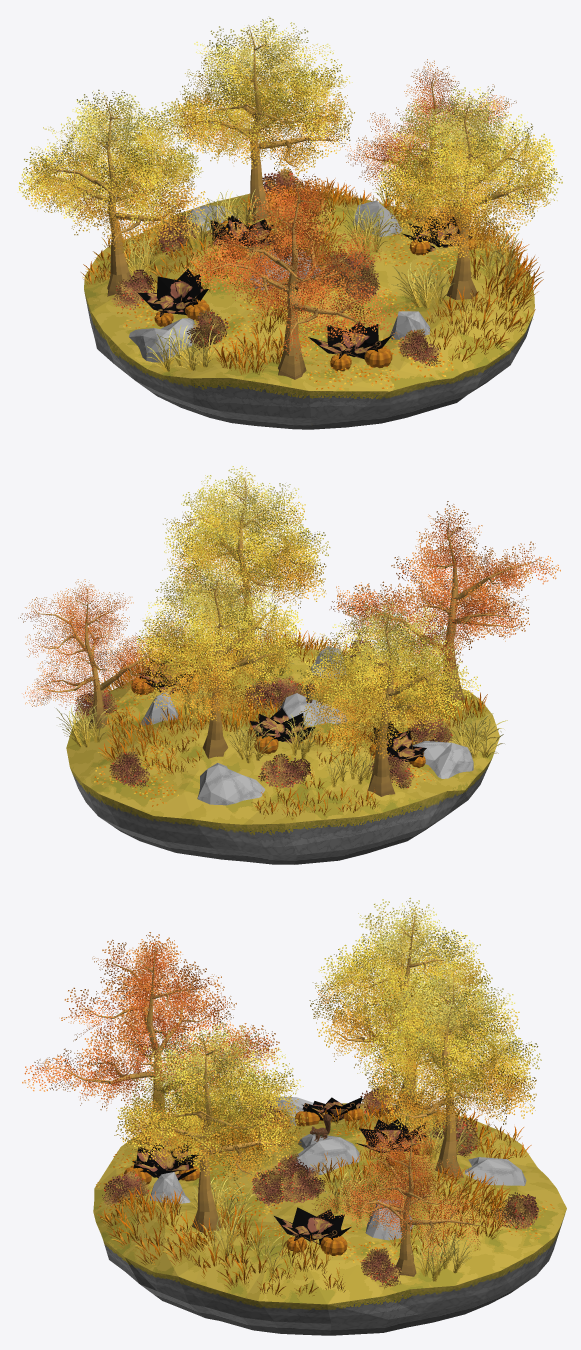
The model's file is forest.glb.
3 views of the same model, one above another, from view 1: azimuth 30°, elevation 25°; view 2: azimuth 150°, elevation 25°; view 3: azimuth 270°, elevation 25° (orthographic). The views are drawn at different scales.
Visible parts, largest first — view 1: Base, Plane.142, Plane.1398, Plane.173, Plane.1329, Plane.245, Plane.1579, Plane.1580, Icosphere.002, Plane.881, Plane.1581, Plane.021 (+10 smaller); view 2: Base, Plane.173, Plane.1398, Plane.142, Plane.1329, Plane.245, Icosphere.004, Plane.881, Icosphere.002, Plane.019, Icosphere.007, Plane.1580 (+8 smaller); view 3: Base, Plane.173, Plane.142, Plane.1329, Plane.1398, Plane.245, Plane.1581, Plane.1579, Icosphere.007, Plane.881, Icosphere.004, Plane.1580 (+10 smaller).
Boxes of the visible parts, x1=… form: Base: x1=84, y1=190, x2=534, y2=429; Plane.142: x1=377, y1=86, x2=562, y2=299; Plane.1398: x1=17, y1=89, x2=209, y2=296; Plane.173: x1=165, y1=16, x2=354, y2=221; Plane.1329: x1=183, y1=171, x2=397, y2=379; Plane.245: x1=345, y1=59, x2=516, y2=221; Plane.1579: x1=308, y1=321, x2=392, y2=371; Plane.1580: x1=138, y1=269, x2=209, y2=326; Icosphere.002: x1=129, y1=318, x2=196, y2=362; Plane.881: x1=210, y1=215, x2=273, y2=259; Plane.1581: x1=402, y1=216, x2=477, y2=255; Plane.021: x1=111, y1=269, x2=154, y2=310; Base: x1=66, y1=647, x2=499, y2=864; Plane.173: x1=136, y1=560, x2=305, y2=758; Plane.1398: x1=297, y1=598, x2=480, y2=796; Plane.142: x1=162, y1=465, x2=330, y2=663; Plane.1329: x1=329, y1=501, x2=560, y2=703; Plane.245: x1=18, y1=579, x2=190, y2=728; Icosphere.004: x1=197, y1=763, x2=265, y2=805; Plane.881: x1=248, y1=708, x2=315, y2=754; Icosphere.002: x1=412, y1=741, x2=473, y2=778; Plane.019: x1=258, y1=753, x2=312, y2=788; Icosphere.007: x1=277, y1=693, x2=347, y2=726; Plane.1580: x1=368, y1=721, x2=426, y2=767; Base: x1=93, y1=1103, x2=566, y2=1335; Plane.173: x1=357, y1=965, x2=541, y2=1177; Plane.142: x1=114, y1=1020, x2=307, y2=1233; Plane.1329: x1=22, y1=932, x2=279, y2=1146; Plane.1398: x1=309, y1=897, x2=501, y2=1112; Plane.245: x1=312, y1=1120, x2=508, y2=1276; Plane.1581: x1=274, y1=1207, x2=351, y2=1255; Plane.1579: x1=124, y1=1143, x2=199, y2=1185; Icosphere.007: x1=296, y1=1134, x2=359, y2=1174; Plane.881: x1=355, y1=1117, x2=434, y2=1166; Icosphere.004: x1=464, y1=1157, x2=526, y2=1185; Plane.1580: x1=295, y1=1097, x2=364, y2=1126.
Bounding box in the file's own units: 34.45 × 21.4 × 33.16.
20 materials, 20 textured.
